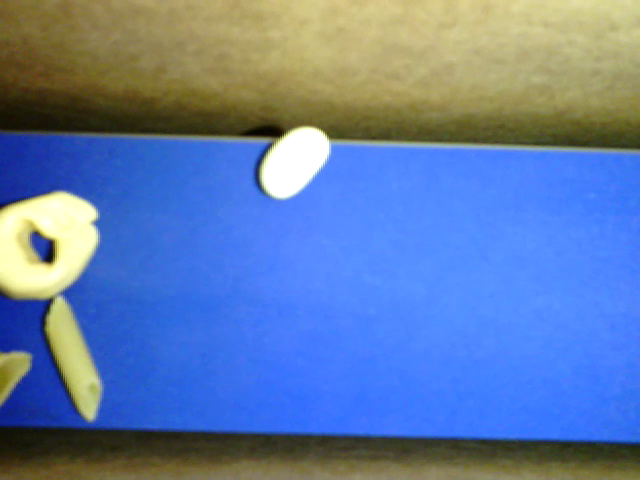penne: (44, 295, 102, 421)
shell: (1, 351, 32, 405)
tortellini: (1, 190, 102, 299)
